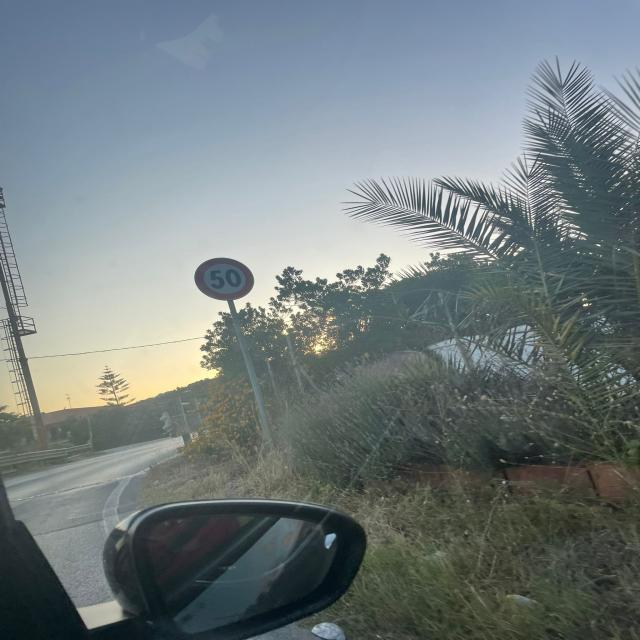forb_speed_over_50: (193, 257, 255, 301)
